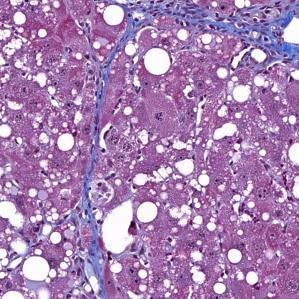fibrosis: (148, 0, 282, 48), (70, 200, 103, 286)
